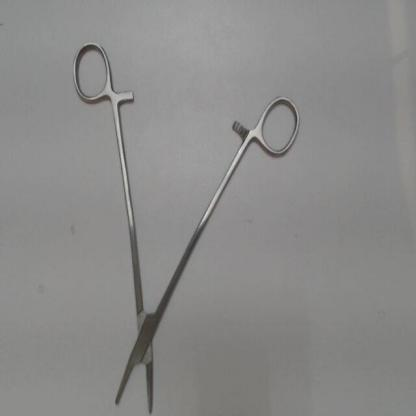8 Mayo Needle Holder: (63, 32, 306, 414)
